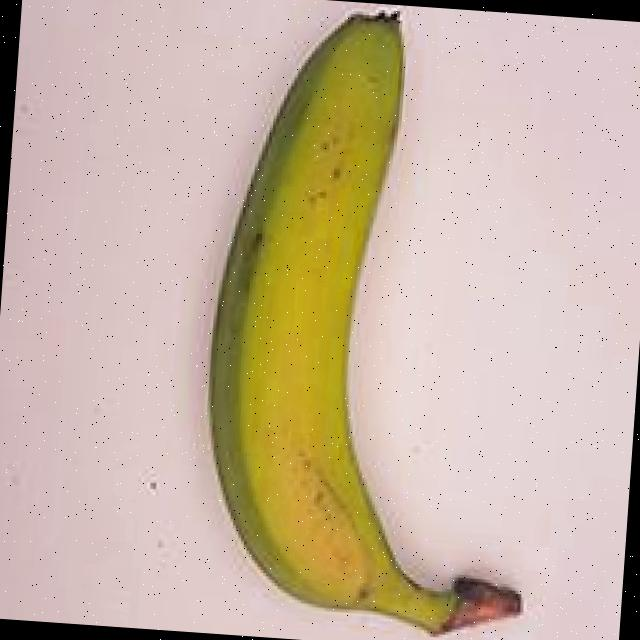Unripe: (145, 0, 570, 640)
